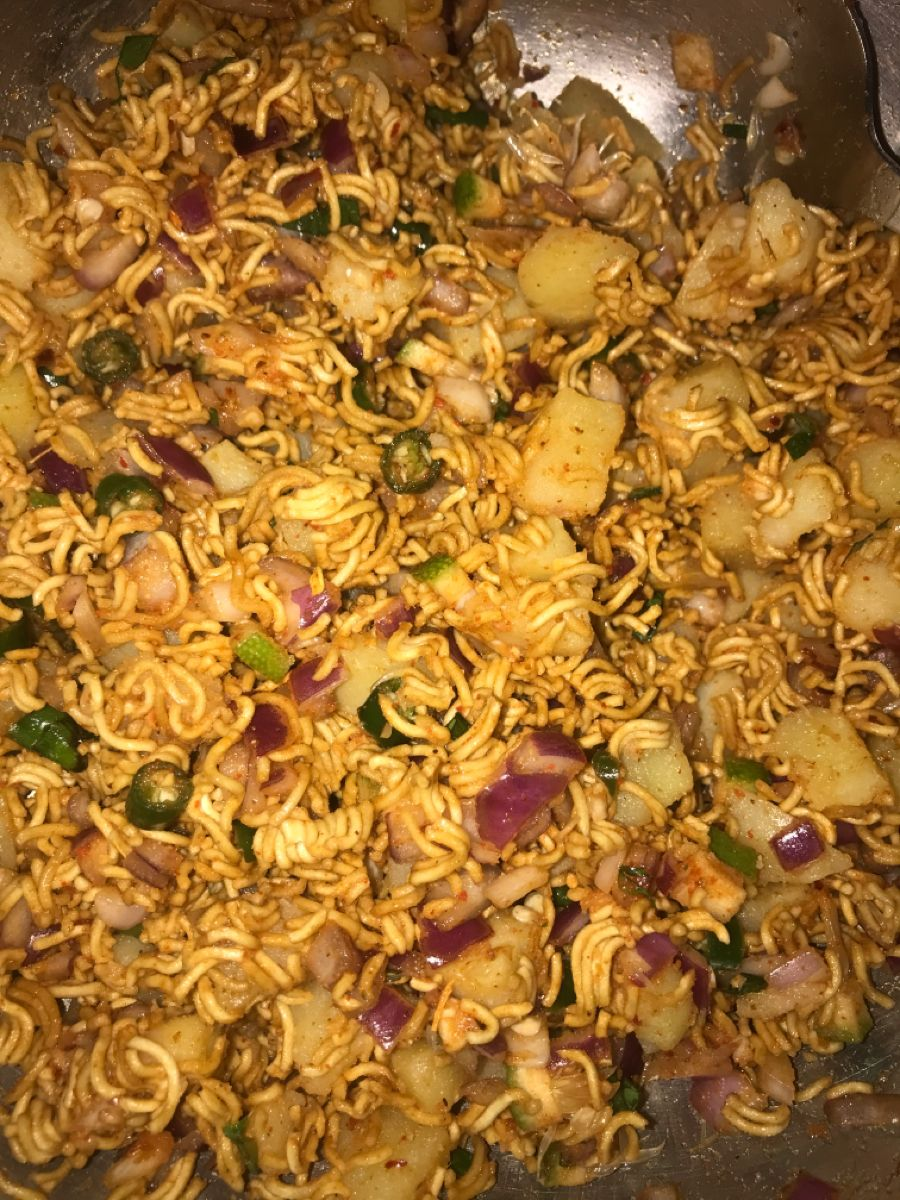chatpate: (22, 45, 855, 1155)
